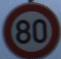Speed Limit -80-: (0, 0, 60, 58)
